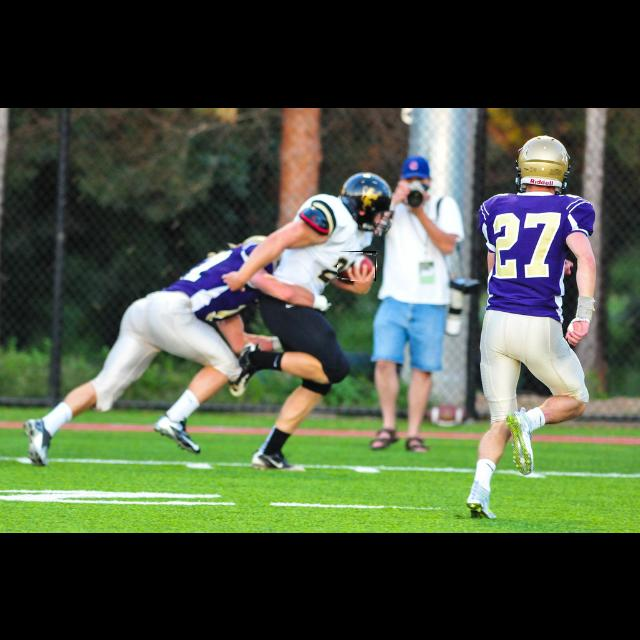Football: (338, 251, 376, 281)
